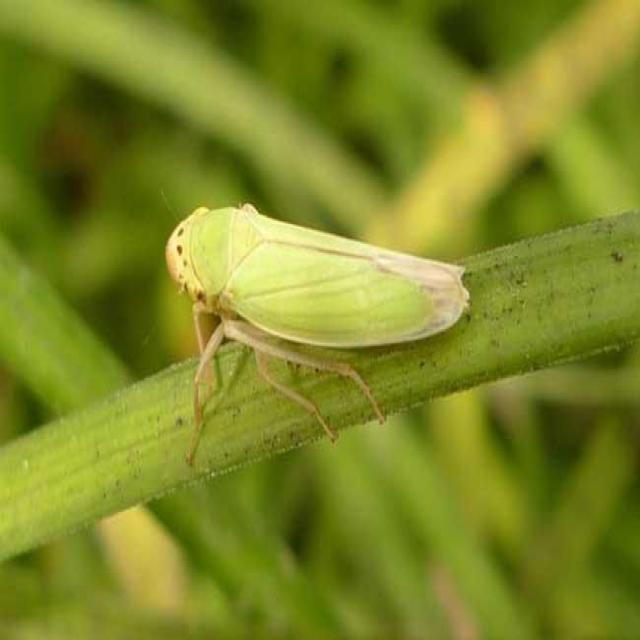Yechan: (165, 201, 468, 413)
